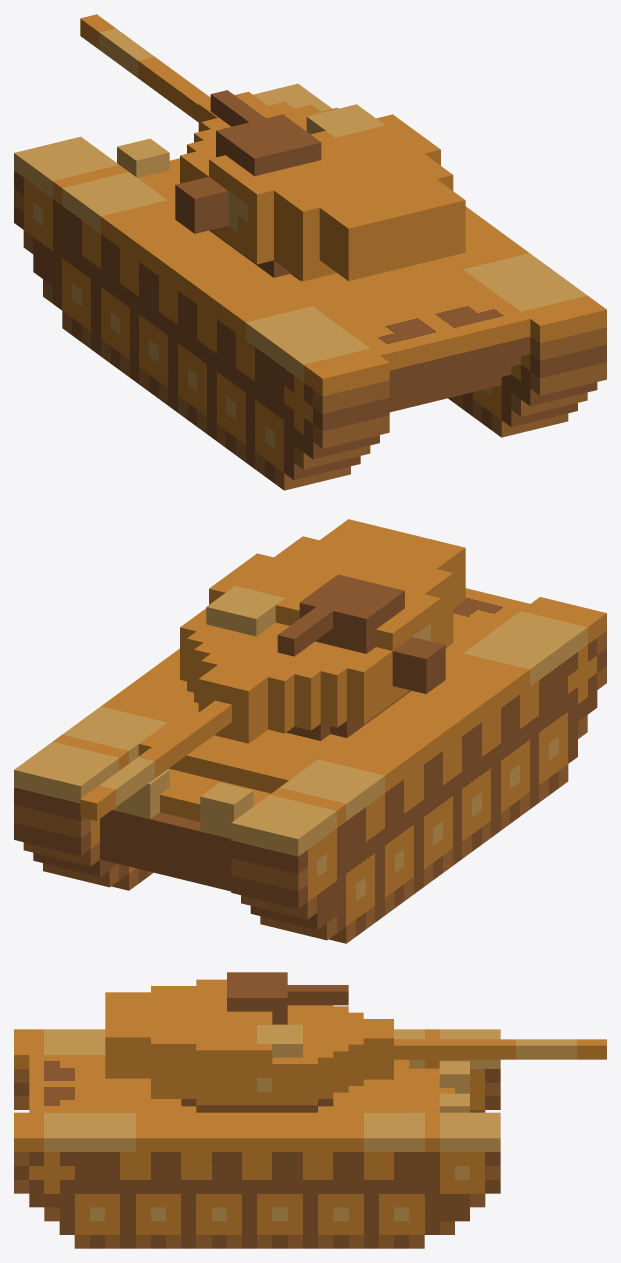
3 renders of one model, top to bottom at view 1: azimuth 30°, elevation 25°; view 2: azimuth 150°, elevation 25°; view 3: azimuth 270°, elevation 25°, orthographic. The views are drawn at different scales.
Parts seen in each view (by area): view 1: t110e5-2, t110e5-1, t110e5-0; view 2: t110e5-2, t110e5-1, t110e5-0; view 3: t110e5-2, t110e5-1, t110e5-0.
Part boxes in pixels (x1,y1,x2,y2): t110e5-2: (14, 83, 606, 490); t110e5-1: (175, 90, 465, 281); t110e5-0: (80, 14, 210, 122); t110e5-2: (14, 588, 606, 943); t110e5-1: (180, 519, 465, 743); t110e5-0: (80, 700, 231, 820); t110e5-2: (14, 1029, 500, 1248); t110e5-1: (105, 972, 393, 1112); t110e5-0: (394, 1039, 606, 1059).
Size of the model in its own units: 1.7 by 1.4 by 3.9.
3 materials, 3 textured.
